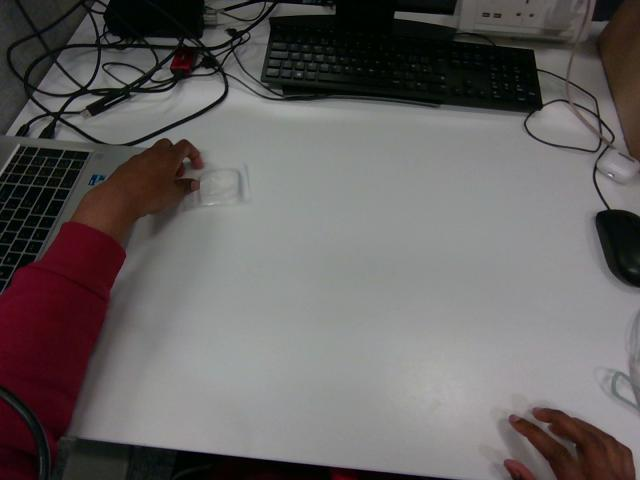gauze: (184, 168, 248, 208)
